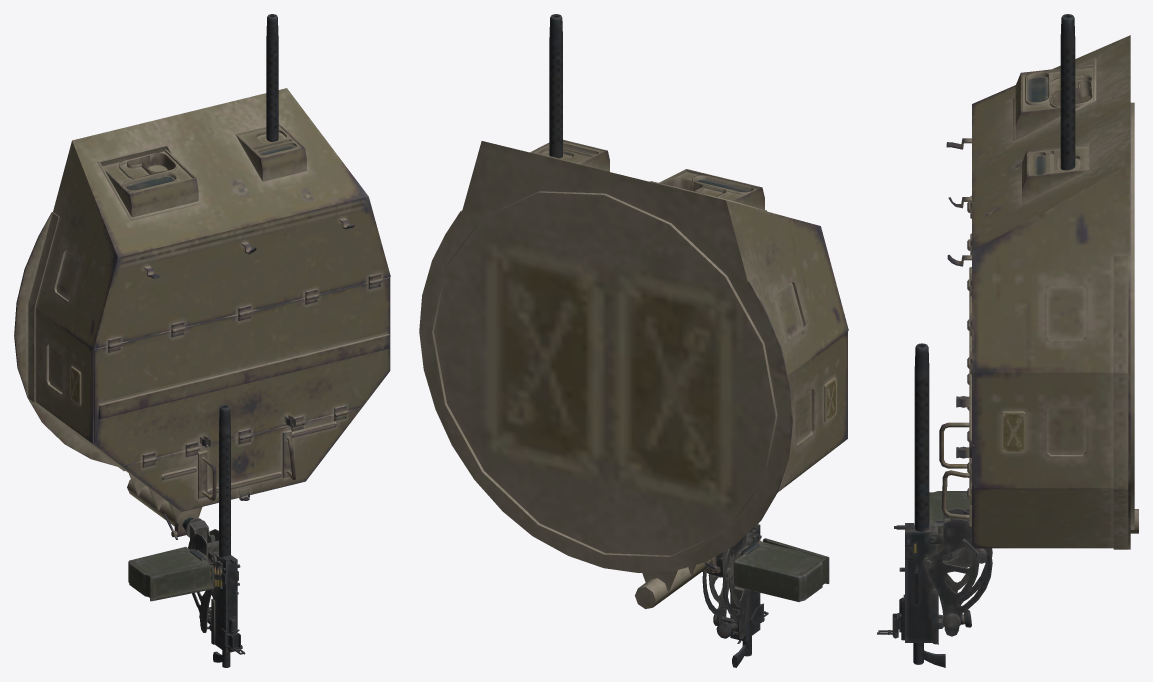
The model's file is Turret_01.glb.
3 views of the same model, side by side, from view 1: azimuth 30°, elevation 25°; view 2: azimuth 150°, elevation 25°; view 3: azimuth 270°, elevation 25° (orthographic). The views are drawn at different scales.
Parts seen in each view (by area): view 1: set_0_group_0; view 2: set_0_group_0; view 3: set_0_group_0.
Boxes of the visible parts, x1,y1,x2,y2 form: set_0_group_0: (14,14,390,667); set_0_group_0: (419,14,848,667); set_0_group_0: (877,14,1138,667).
Bounding box in the file's own units: 1.41 × 2.39 × 0.7948.
Materials: 1 (1 with a texture image).
